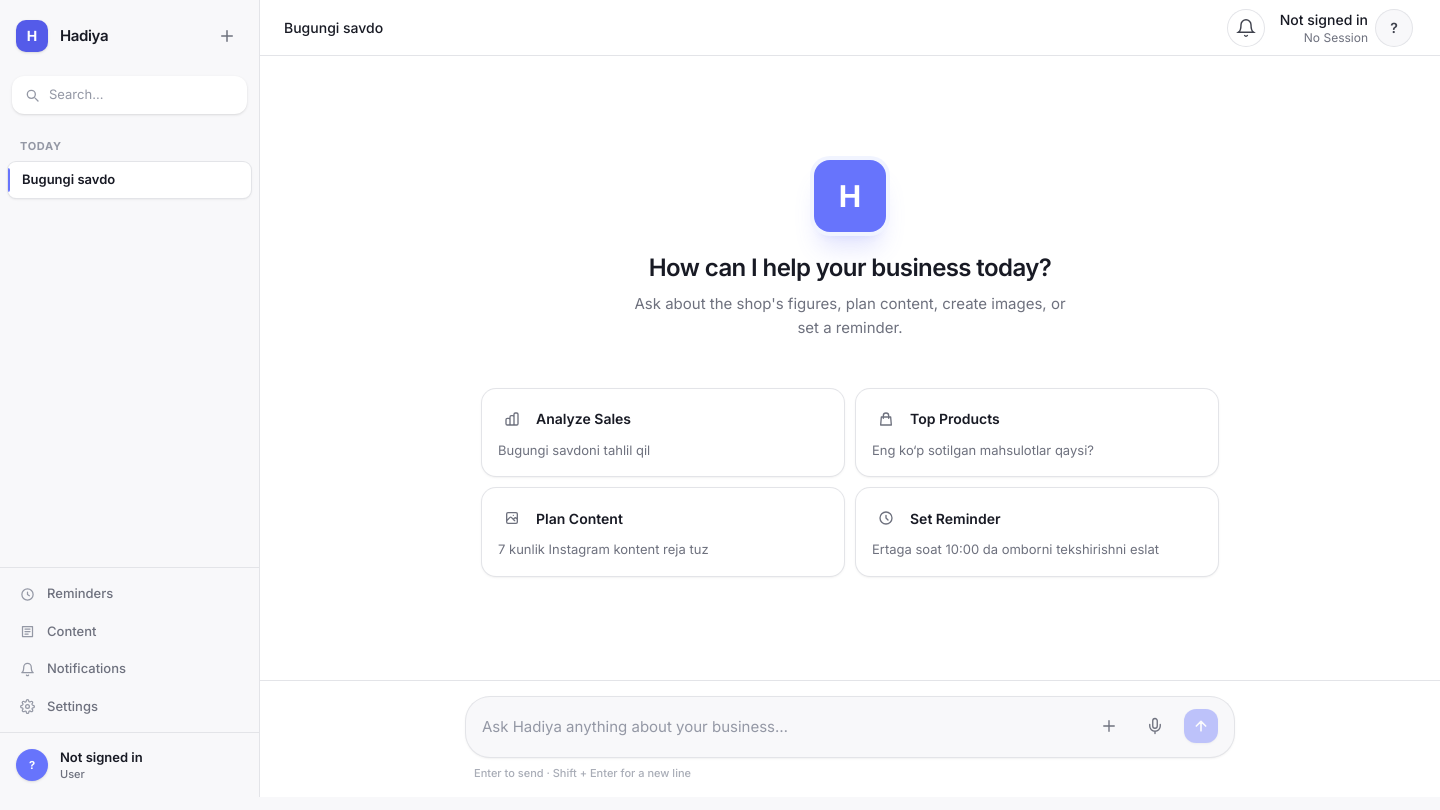
Test: watching a turn happen › draws a truthful timeline for a workflow where one step failed
In the text box with placeholder "Ask Hadiya anything about your business…": (781, 727) [482,705,1080,749], type "Savdoni analiz qil va Notionga saqla"
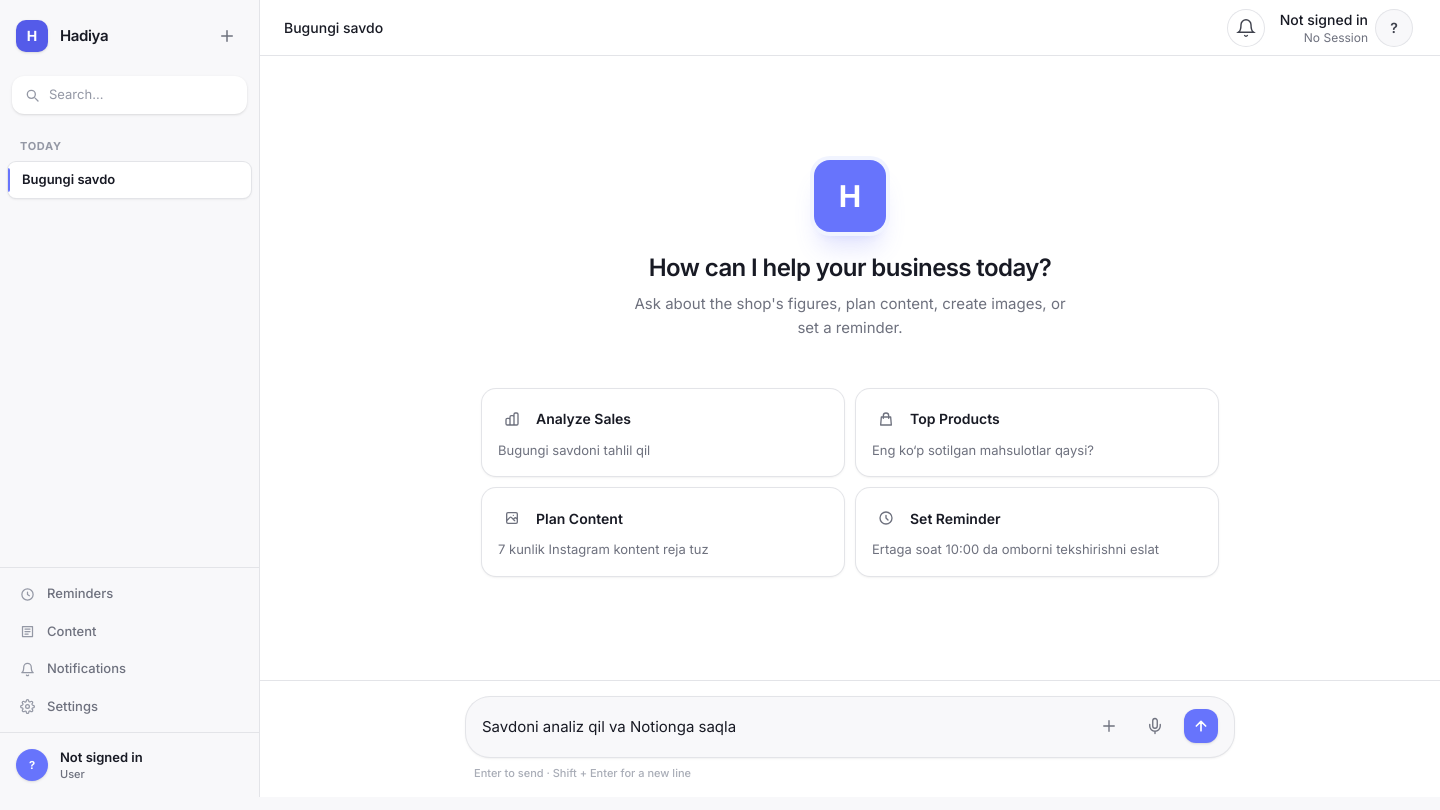
Click the button named "Send message": (1201, 726) [1184,709,1218,743]
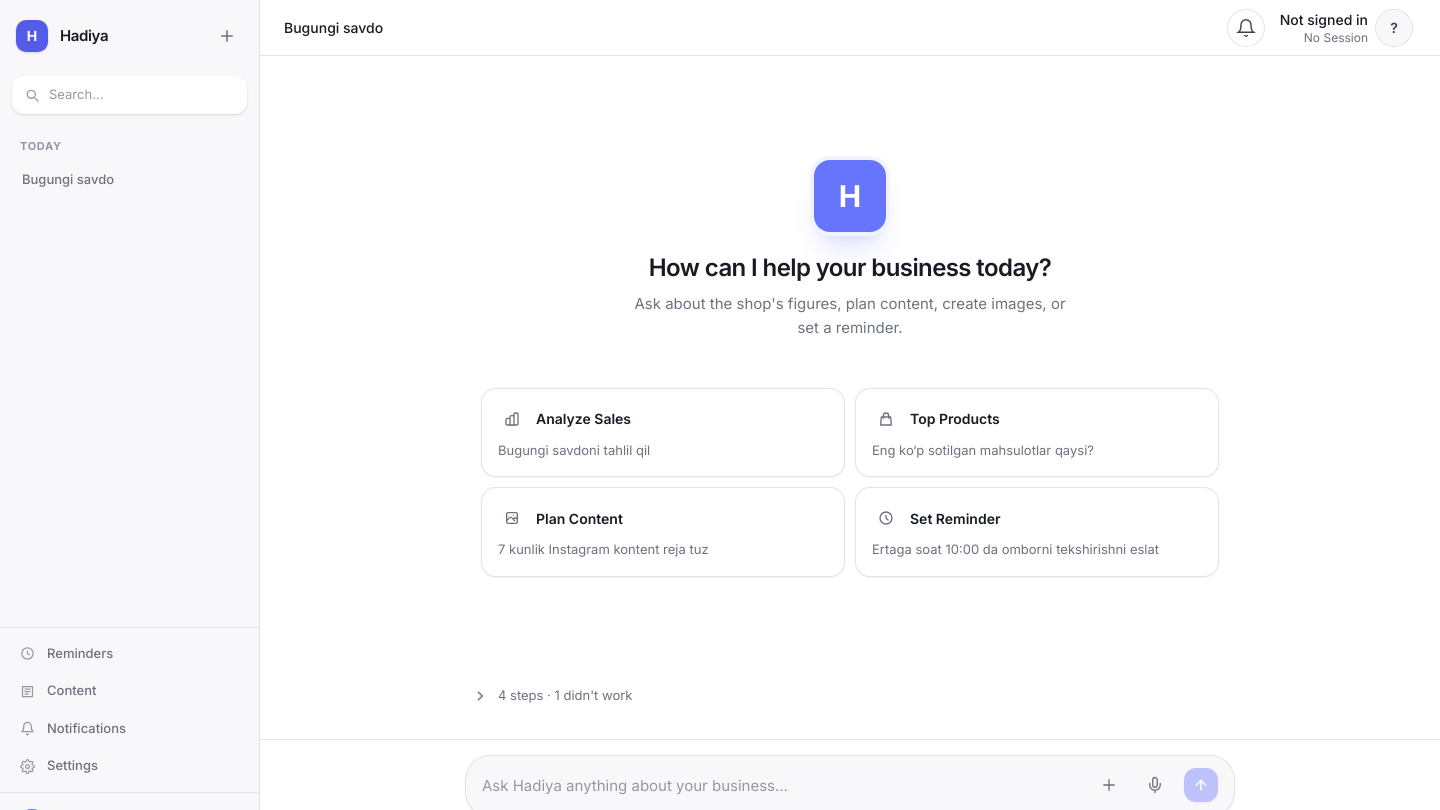
Result: the text "4 steps · 1 didn't work" is shown at [498,686,632,705]
Click the button "4 steps · 1 didn't work": (565, 695) [466,682,1010,709]
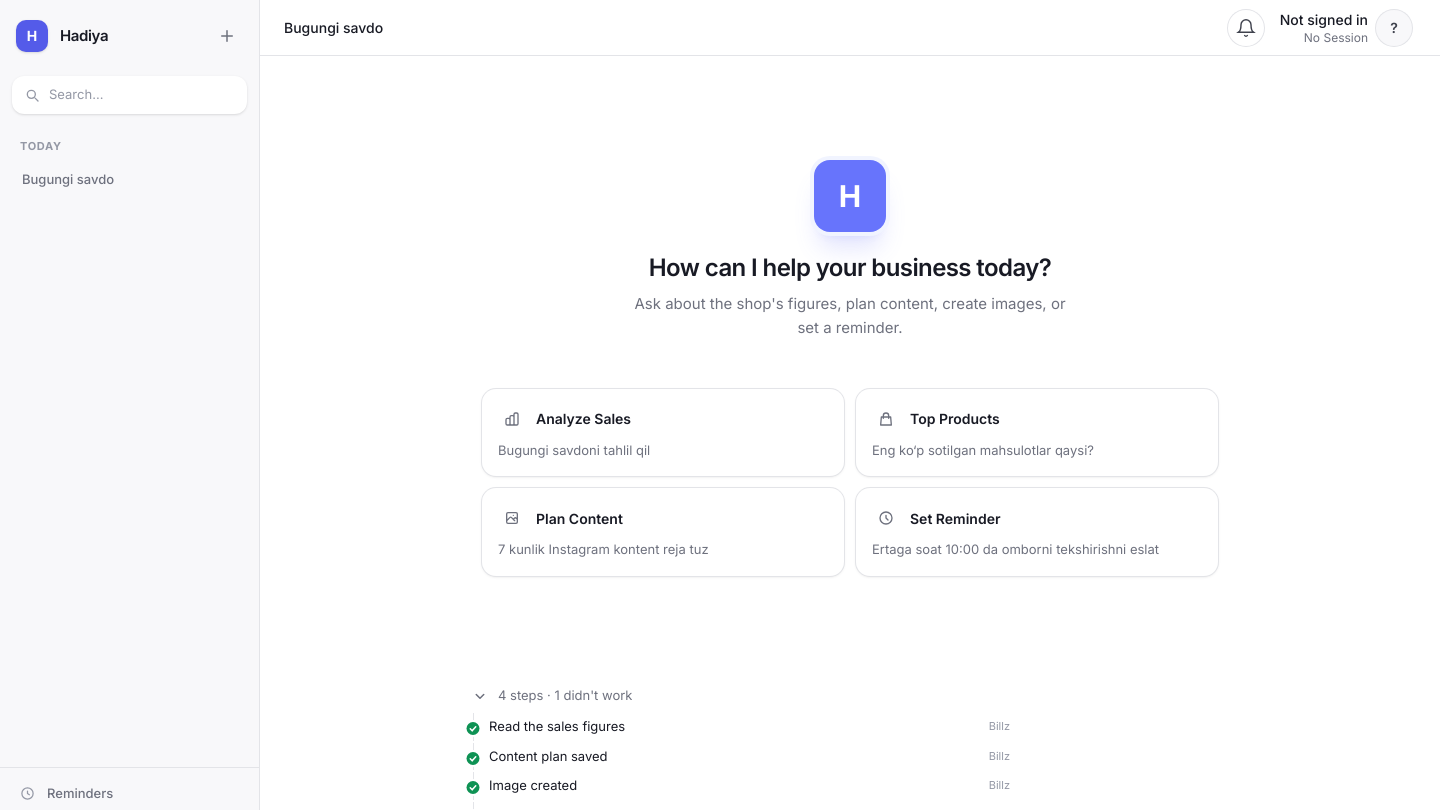
Result: the text "Read the sales figures" is shown at [489,718,625,734]
Result: the text "Content plan saved" is shown at [489,748,608,764]
Result: the text "Image created" is shown at [489,777,577,793]
